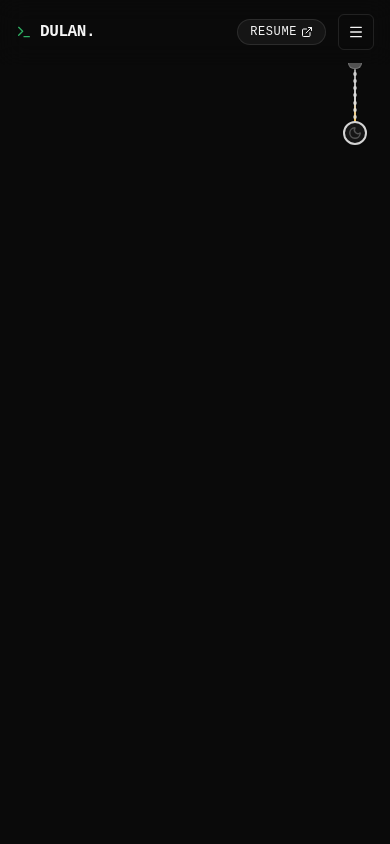
Header component › closes navigation when an anchor inside the drawer is clicked
Click the button named "open navigation": click(356, 32) [338,14,374,50]
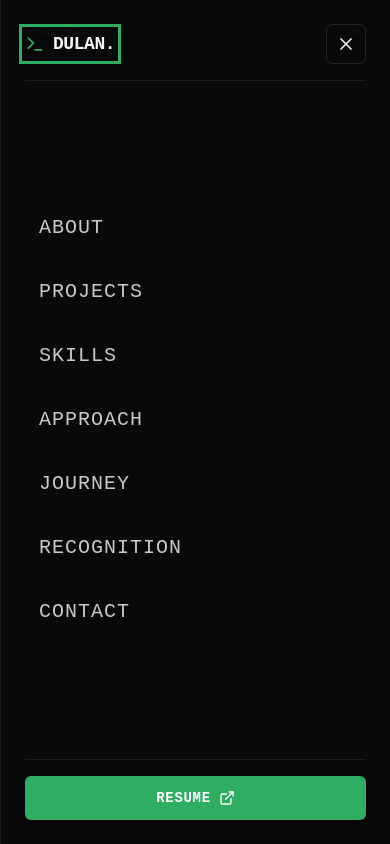
Expected: the dialog named "navigation" is shown
Click the link "About": click(72, 228) [39,216,104,239]
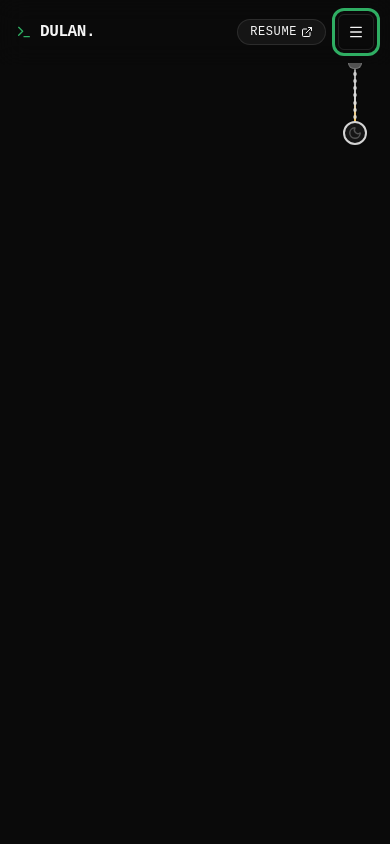
Expected: the button "navigation" is gone
